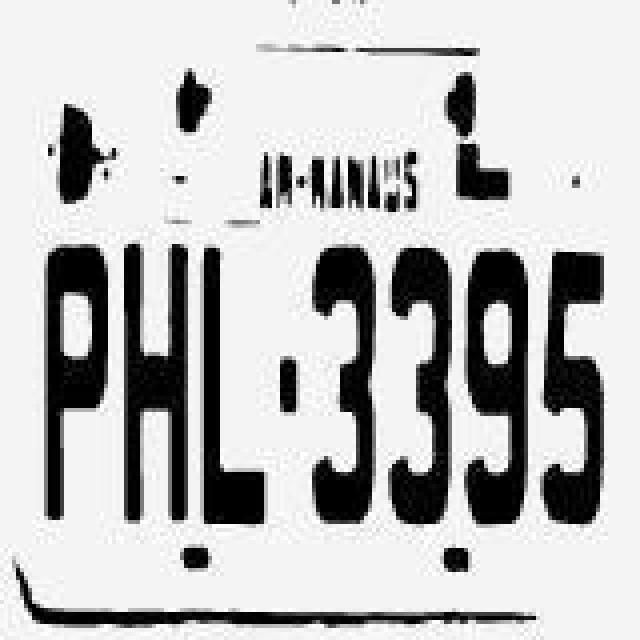3: (300, 242, 380, 526), (382, 242, 458, 534)
5: (534, 248, 626, 528)
9: (454, 246, 538, 530)
H: (114, 242, 190, 526)
L: (194, 240, 270, 528)
P: (34, 242, 110, 526)
